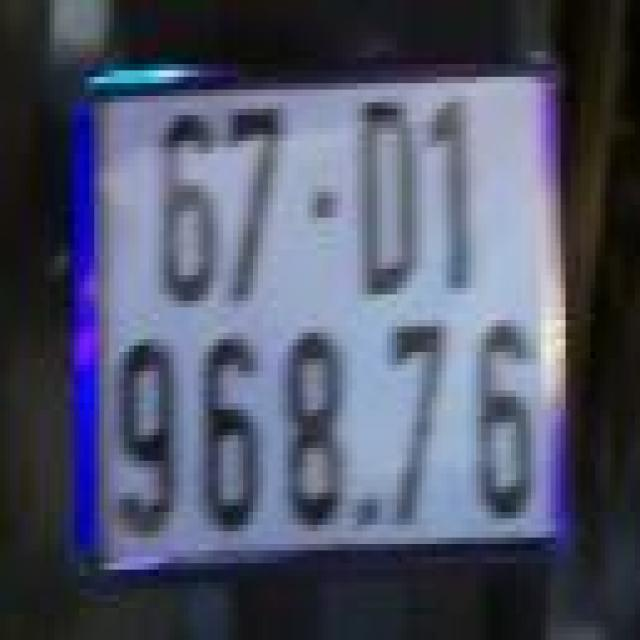1: (427, 87, 486, 310)
6: (461, 304, 546, 528), (193, 323, 278, 541), (156, 102, 221, 308)
7: (372, 314, 457, 538), (218, 90, 293, 314)
8: (273, 310, 352, 534)
9: (112, 327, 191, 550)
D: (347, 96, 422, 294)
